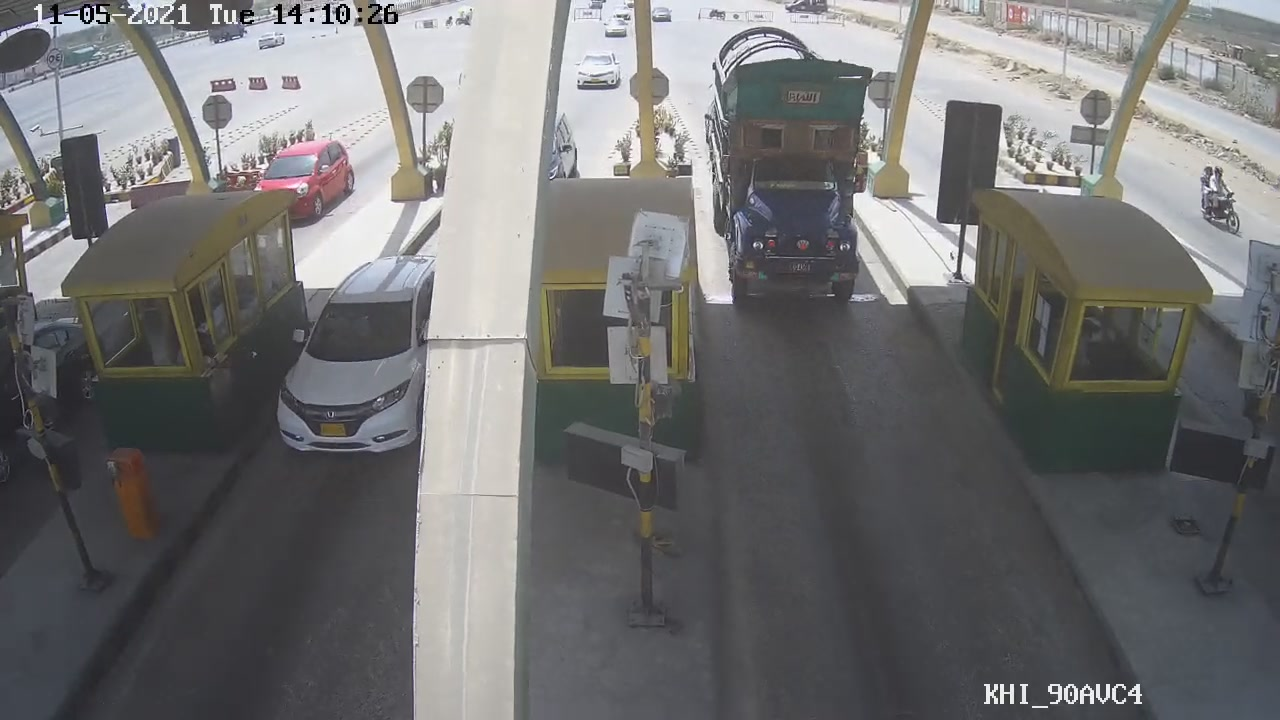F5: (694, 28, 891, 317)
